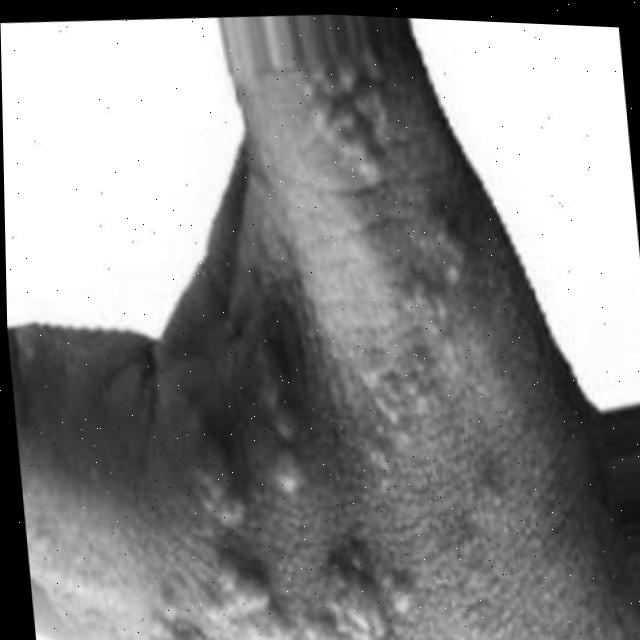Shingles: (172, 435, 409, 640), (348, 226, 493, 438), (302, 54, 415, 180)
